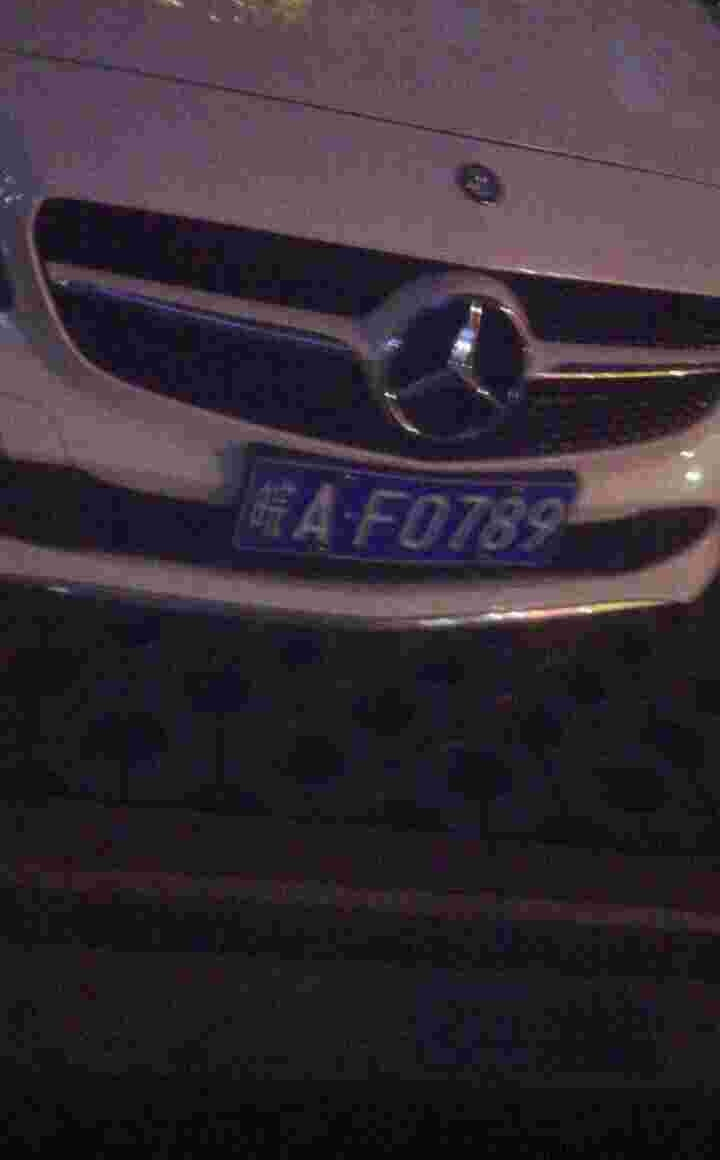license_plate: (222, 467, 590, 574)
